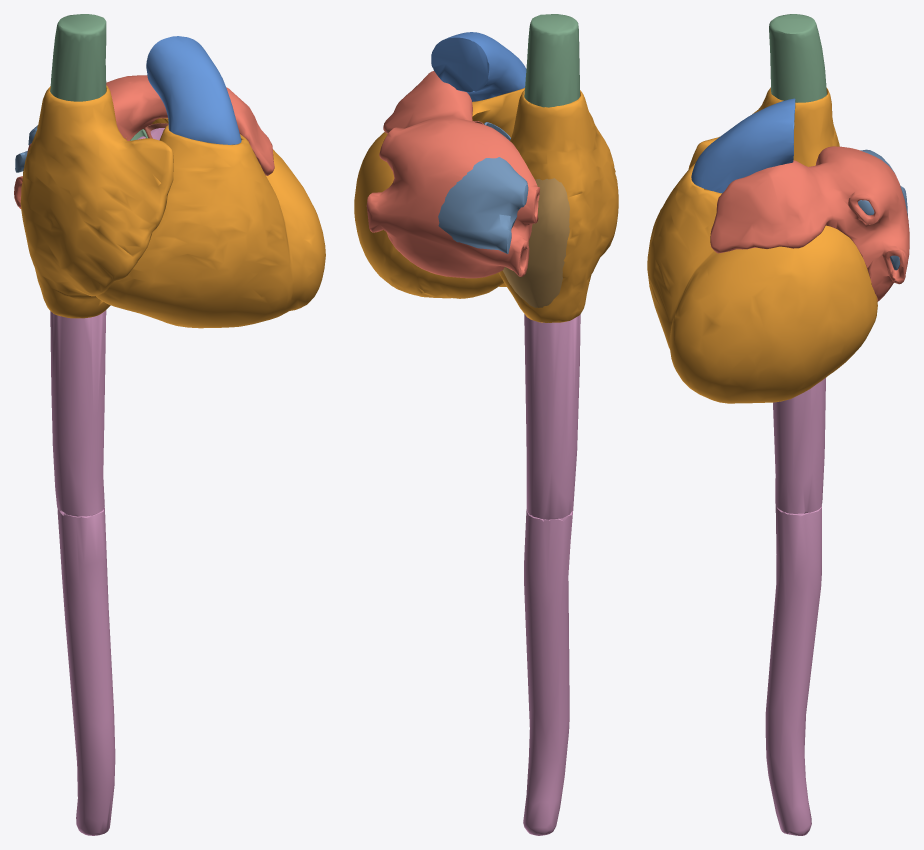
Rendered from heart.glb.
3 renders of one model, left to right at view 1: azimuth 30°, elevation 25°; view 2: azimuth 150°, elevation 25°; view 3: azimuth 270°, elevation 25°, orthographic.
Parts seen in each view (by area): view 1: Wall of ventricle, Wall of right atrium, Inferior vena cava (×2), Pulmonary trunk, Superior vena cava, Wall of left atrium; view 2: Inferior vena cava (×2), Wall of left atrium, Wall of right atrium, Wall of ventricle, Cavity of left atrium, Pulmonary trunk, Superior vena cava, Cavity of right atrium; view 3: Wall of ventricle, Inferior vena cava (×2), Wall of left atrium, Pulmonary trunk, Superior vena cava, Wall of right atrium, Cavity of left atrium.
Part boxes in pixels (x1,y1,x2,y2): Wall of ventricle: [96, 118, 325, 328]; Wall of right atrium: [20, 85, 173, 318]; Inferior vena cava (×2): [50, 310, 115, 835]; Pulmonary trunk: [146, 36, 241, 144]; Superior vena cava: [50, 14, 106, 101]; Wall of left atrium: [14, 75, 274, 208]; Inferior vena cava (×2): [523, 314, 580, 835]; Wall of left atrium: [366, 71, 540, 278]; Wall of right atrium: [498, 89, 618, 322]; Wall of ventricle: [354, 88, 524, 298]; Cavity of left atrium: [438, 157, 528, 253]; Pulmonary trunk: [431, 32, 526, 101]; Superior vena cava: [524, 14, 579, 107]; Cavity of right atrium: [502, 178, 569, 307]; Wall of ventricle: [647, 163, 877, 403]; Inferior vena cava (×2): [765, 378, 825, 835]; Wall of left atrium: [710, 146, 909, 301]; Pulmonary trunk: [691, 98, 795, 193]; Superior vena cava: [769, 14, 826, 102]; Wall of right atrium: [688, 87, 839, 168]; Cavity of left atrium: [858, 149, 907, 270].
Bounding box in the file's own units: 0.6432 × 2 × 0.5928.
